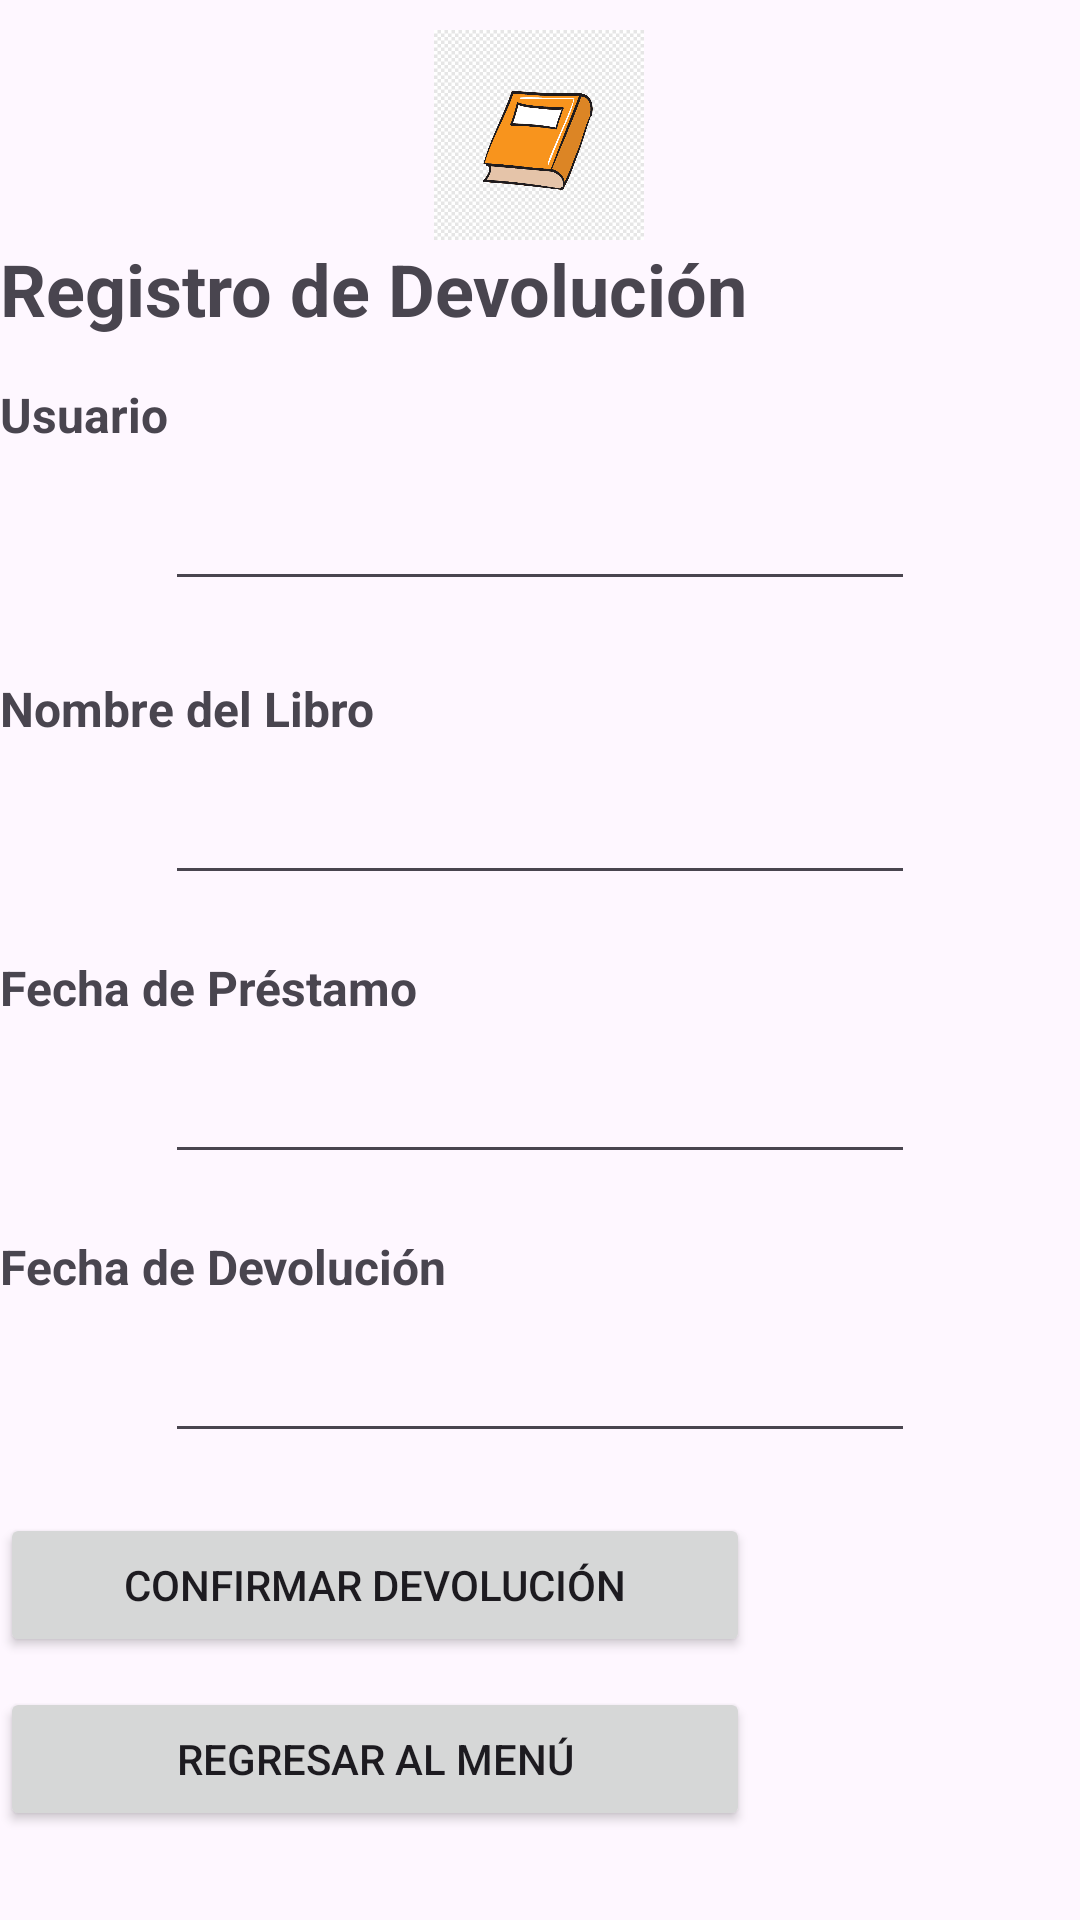

Where icons sit on this 1080x1920 app screen, as (x1, y1, x2, y2):
libro: (434, 30, 644, 240)
